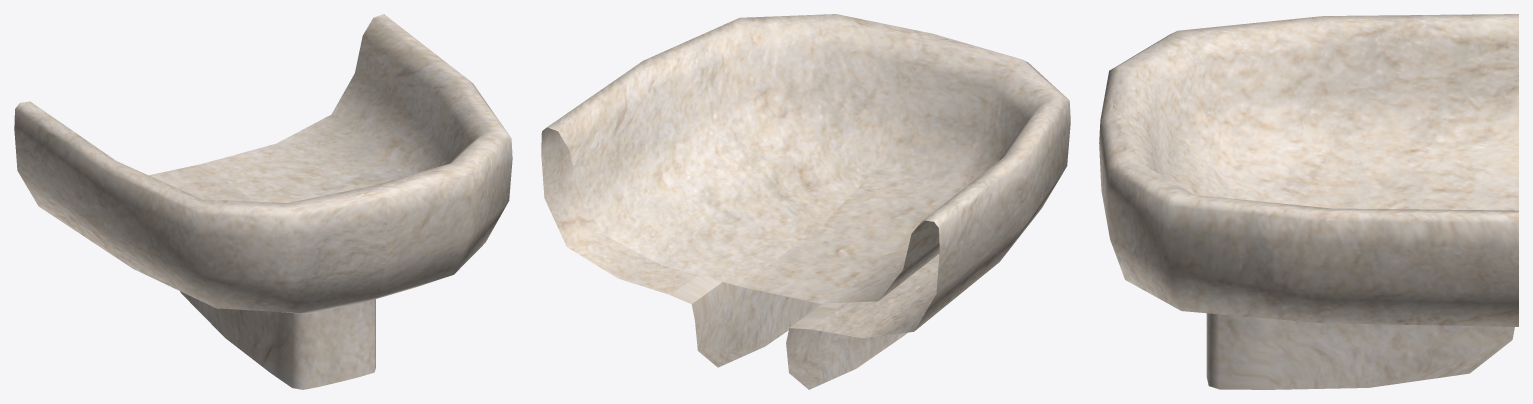
The model's file is BidetTerrazzo.fbx.
The picture shows the model from 3 angles, left to right: view 1: azimuth 30°, elevation 25°; view 2: azimuth 150°, elevation 25°; view 3: azimuth 270°, elevation 25°; orthographic projection. The views are drawn at different scales.
Parts seen in each view (by area): view 1: BideTerrazzo; view 2: BideTerrazzo; view 3: BideTerrazzo.
Part boxes in pixels (x1,y1,x2,y2): BideTerrazzo: (14,14,512,389); BideTerrazzo: (541,14,1070,389); BideTerrazzo: (1099,14,1518,389).
Bounding box in the file's own units: 53.27 × 30.21 × 45.65.
